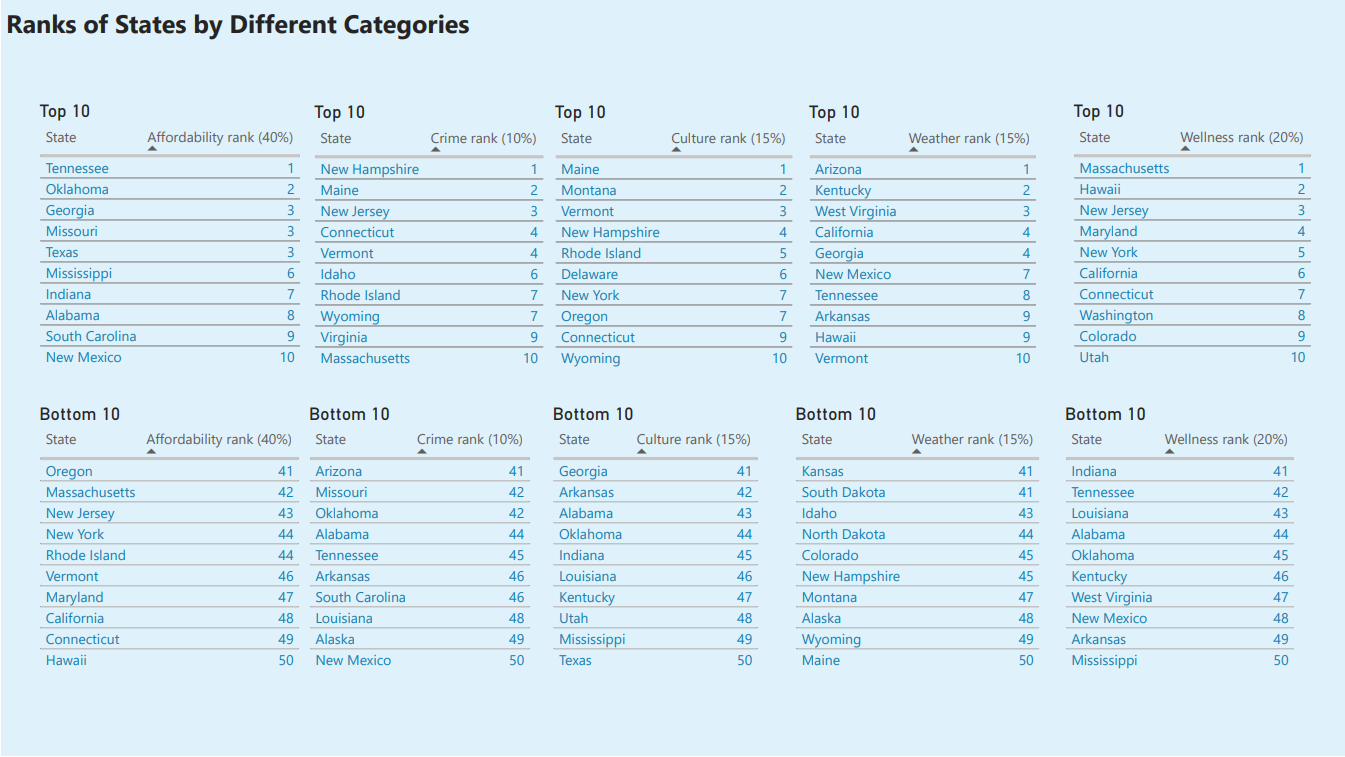

This screenshot's page, from the dashboard's own definition file:
{"tool":"powerbi","page":{"name":"Page 2","canvas":[1280,720],"ordinal":1},"visuals":[{"type":"tableEx","title":"Bottom 10","fields":{"Values":["Complete Table.State","Sum(Complete Table.Affordability rank (40%))"]},"box":[32,384,264,264],"z":0},{"type":"tableEx","title":"Top 10","fields":{"Values":["Complete Table.State","Sum(Complete Table.Affordability rank (40%))"]},"box":[32,96,264,264],"z":1000},{"type":"tableEx","title":"Top 10","fields":{"Values":["Complete Table.State","Sum(Complete Table.Culture rank (15%))"]},"box":[522.9,96.5,244.7,268.1],"z":2000},{"type":"tableEx","title":"Bottom 10","fields":{"Values":["Complete Table.State","Sum(Complete Table.Wellness rank (20%))"]},"box":[1008,384,240,272],"z":3000},{"type":"tableEx","title":"Bottom 10","fields":{"Values":["Complete Table.State","Sum(Complete Table.Weather rank (15%))"]},"box":[752,384,256,272],"z":4000},{"type":"tableEx","title":"Top 10","fields":{"Values":["Complete Table.State","Sum(Complete Table.Crime rank (10%))"]},"box":[293,96.5,233,268.1],"z":5000},{"type":"tableEx","title":"Bottom 10","fields":{"Values":["Complete Table.State","Sum(Complete Table.Crime rank (10%))"]},"box":[288,384,232,272],"z":6000},{"type":"tableEx","title":"Top 10","fields":{"Values":["Complete Table.State","Sum(Complete Table.Wellness rank (20%))"]},"box":[1016.3,95.8,251.9,264.7],"z":7000},{"type":"tableEx","title":"Top 10","fields":{"Values":["Complete Table.State","Sum(Complete Table.Weather rank (15%))"]},"box":[764.6,96.5,254.4,263.2],"z":8000},{"type":"tableEx","title":"Bottom 10","fields":{"Values":["Complete Table.State","Sum(Complete Table.Culture rank (15%))"]},"box":[520,384,240,264],"z":9000},{"type":"textbox","title":"Rank f Sates","box":[0,0,641,49.4],"z":10000}]}

Visuals, with their boxes in screenshot pixels (x1, y1, x2, y2), scaled from the page's 1280x720 canvas onto the 1345x757 screenshot:
"Bottom 10" tableEx: [left=34, top=404, right=311, bottom=681]
"Top 10" tableEx: [left=34, top=101, right=311, bottom=378]
"Top 10" tableEx: [left=549, top=101, right=807, bottom=383]
"Bottom 10" tableEx: [left=1059, top=404, right=1311, bottom=690]
"Bottom 10" tableEx: [left=790, top=404, right=1059, bottom=690]
"Top 10" tableEx: [left=308, top=101, right=553, bottom=383]
"Bottom 10" tableEx: [left=303, top=404, right=546, bottom=690]
"Top 10" tableEx: [left=1068, top=101, right=1333, bottom=379]
"Top 10" tableEx: [left=803, top=101, right=1071, bottom=378]
"Bottom 10" tableEx: [left=546, top=404, right=799, bottom=681]
"Rank f Sates" textbox: [left=0, top=0, right=674, bottom=52]
